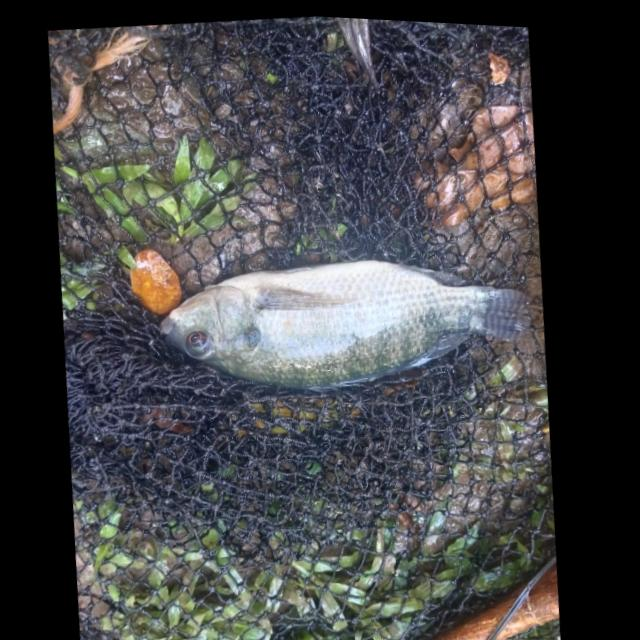Tilapia: (157, 233, 541, 419)
